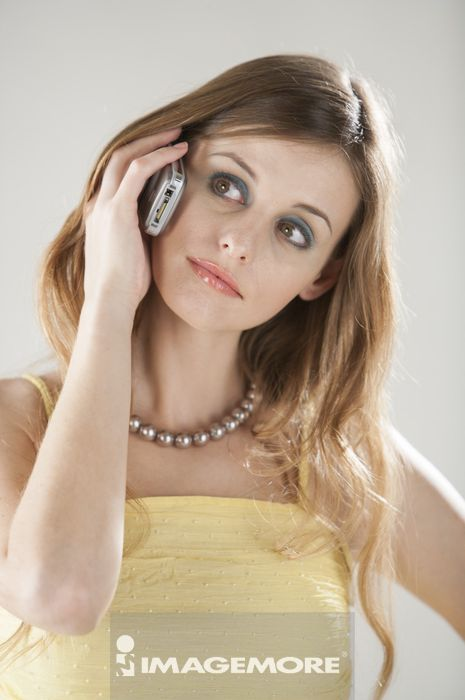talk: (81, 124, 339, 365)
